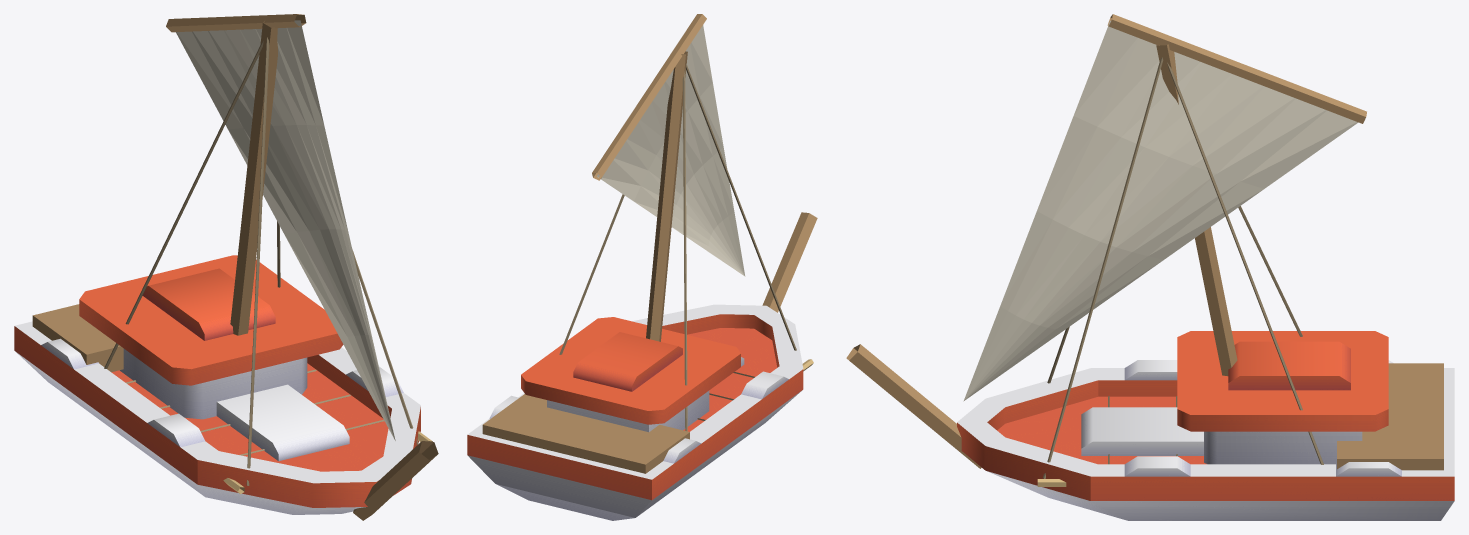
The model's file is dhow-custom.glb.
3 views of the same model, side by side, from view 1: azimuth 30°, elevation 25°; view 2: azimuth 150°, elevation 25°; view 3: azimuth 270°, elevation 25° (orthographic). The views are drawn at different scales.
Parts seen in each view (by area): view 1: boat-sail-a, dhow linen, dhow wood, dhow rope; view 2: boat-sail-a, dhow wood, dhow linen, dhow rope; view 3: boat-sail-a, dhow linen, dhow wood, dhow rope.
Boxes of the visible parts, box(x1,y1,x2,y2) form: boat-sail-a: box(14, 255, 420, 514); dhow linen: box(176, 20, 395, 440); dhow wood: box(32, 14, 438, 520); dhow rope: box(104, 37, 418, 485); boat-sail-a: box(467, 304, 803, 520); dhow wood: box(482, 14, 817, 473); dhow linen: box(597, 25, 745, 276); dhow rope: box(559, 64, 796, 431); boat-sail-a: box(957, 331, 1454, 520); dhow linen: box(963, 20, 1358, 401); dhow wood: box(846, 14, 1443, 470); dhow rope: box(1043, 57, 1323, 478).
Size of the model in its own units: 3.96 by 8.22 by 9.4.
Materials: 5 (1 with a texture image).
